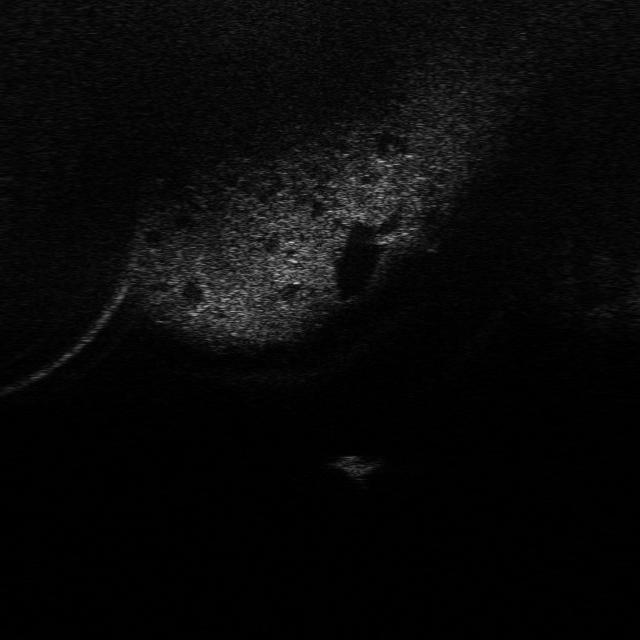cube: (326, 452, 383, 482)
